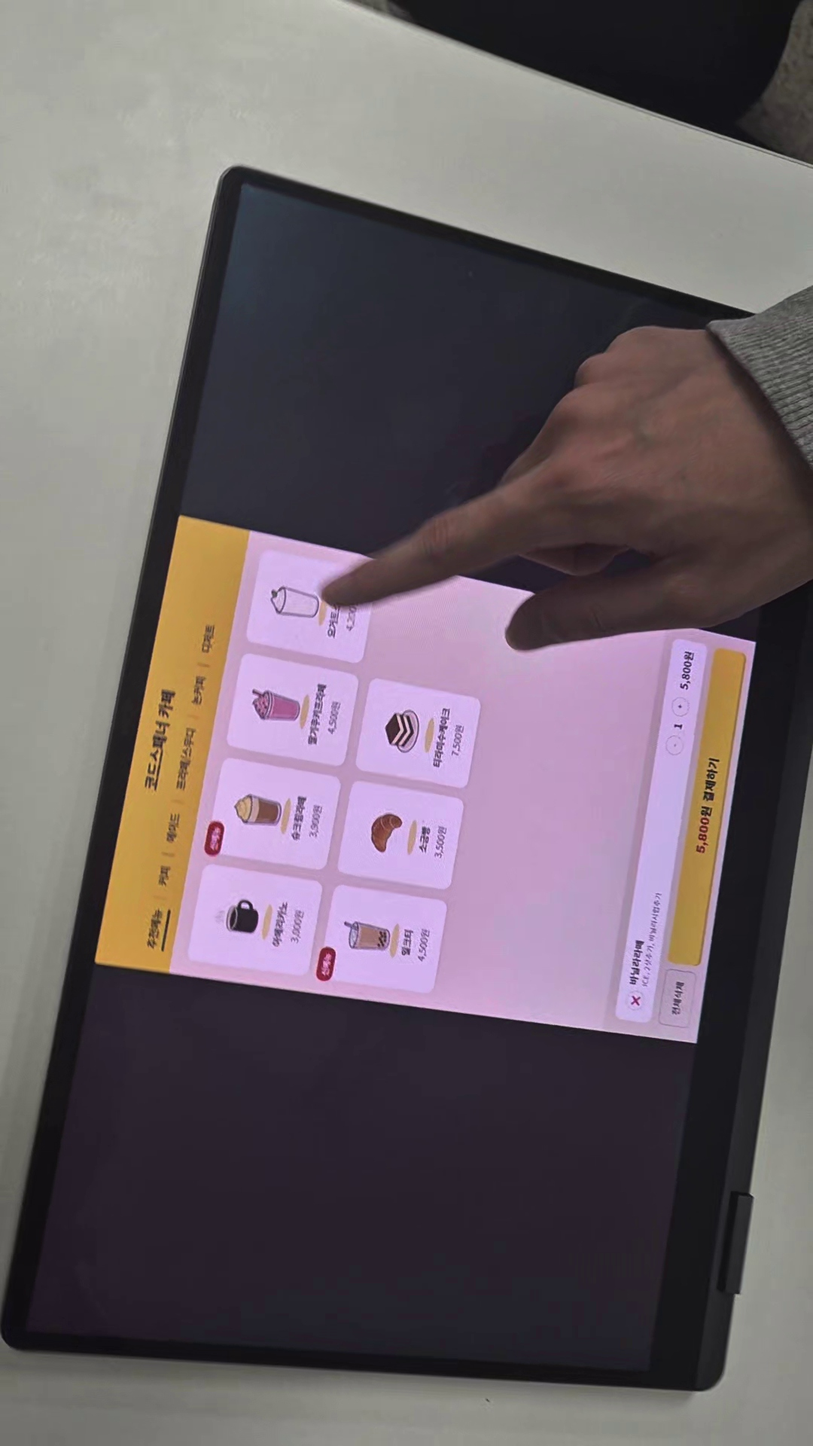action_button: (667, 646, 746, 969), (658, 968, 698, 1029)
cart_item: (612, 636, 708, 1022)
category_tab: (166, 724, 200, 797), (181, 668, 215, 718), (189, 618, 219, 666), (140, 903, 166, 957), (155, 807, 189, 846), (150, 861, 174, 892)
menu_back: (226, 652, 359, 771), (205, 754, 343, 868), (247, 547, 378, 666), (189, 863, 321, 981), (334, 780, 469, 891), (353, 674, 481, 787), (322, 884, 450, 996)
menu_name: (427, 702, 459, 771), (300, 678, 331, 747), (318, 577, 349, 646), (266, 898, 292, 950), (285, 794, 310, 846), (414, 821, 433, 854), (398, 926, 416, 959)
menu_price: (447, 720, 468, 762), (288, 905, 309, 947), (342, 596, 363, 637), (433, 823, 454, 864), (324, 696, 344, 737), (307, 800, 327, 841), (414, 926, 434, 967)
